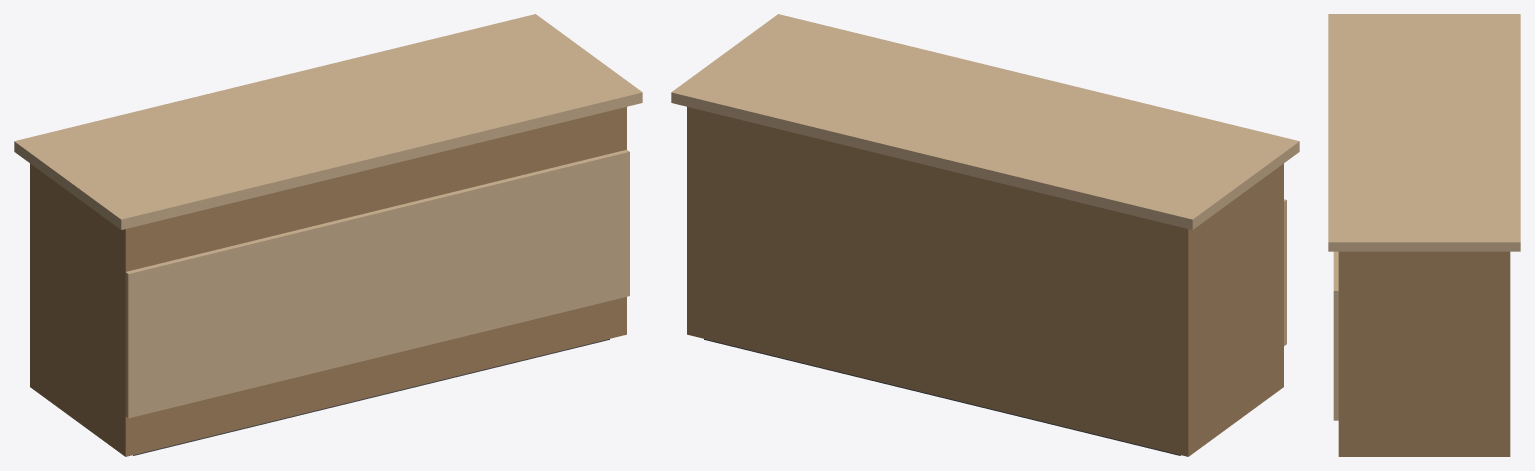
The model's file is ServiceCounter.glb.
The picture shows the model from 3 angles, left to right: view 1: azimuth 30°, elevation 25°; view 2: azimuth 150°, elevation 25°; view 3: azimuth 270°, elevation 25°; orthographic projection. The views are drawn at different scales.
Parts seen in each view (by area): view 1: ServiceCounter; view 2: ServiceCounter; view 3: ServiceCounter.
Part boxes in pixels (x1=…): ServiceCounter: x1=14, y1=14, x2=642, y2=456; ServiceCounter: x1=671, y1=14, x2=1299, y2=456; ServiceCounter: x1=1328, y1=14, x2=1520, y2=456.
Size of the model in its own units: 2.08 by 0.95 by 0.74.
